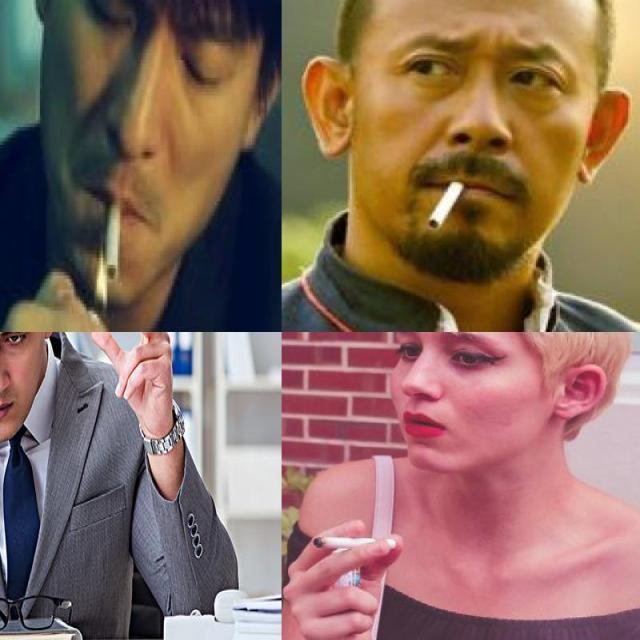smoking: (414, 170, 462, 230), (104, 192, 125, 280), (313, 536, 397, 551)
